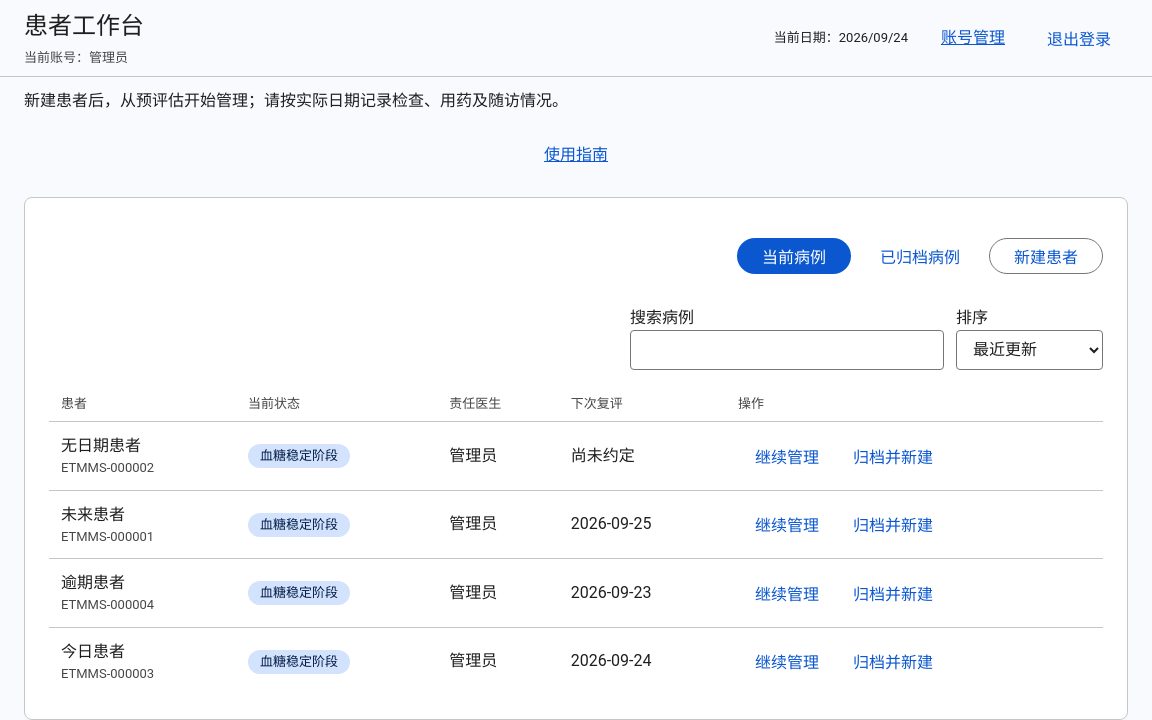
it: PatientListPage 当前环节 › 支持模拟病例搜索、复评日期排序和归档列表
expect the text "逾期患者" is shown: met, box [61,573,125,592]
Select "复评日期" in the dropdown labelled "排序" at (1030,350), box [956,330,1103,370]
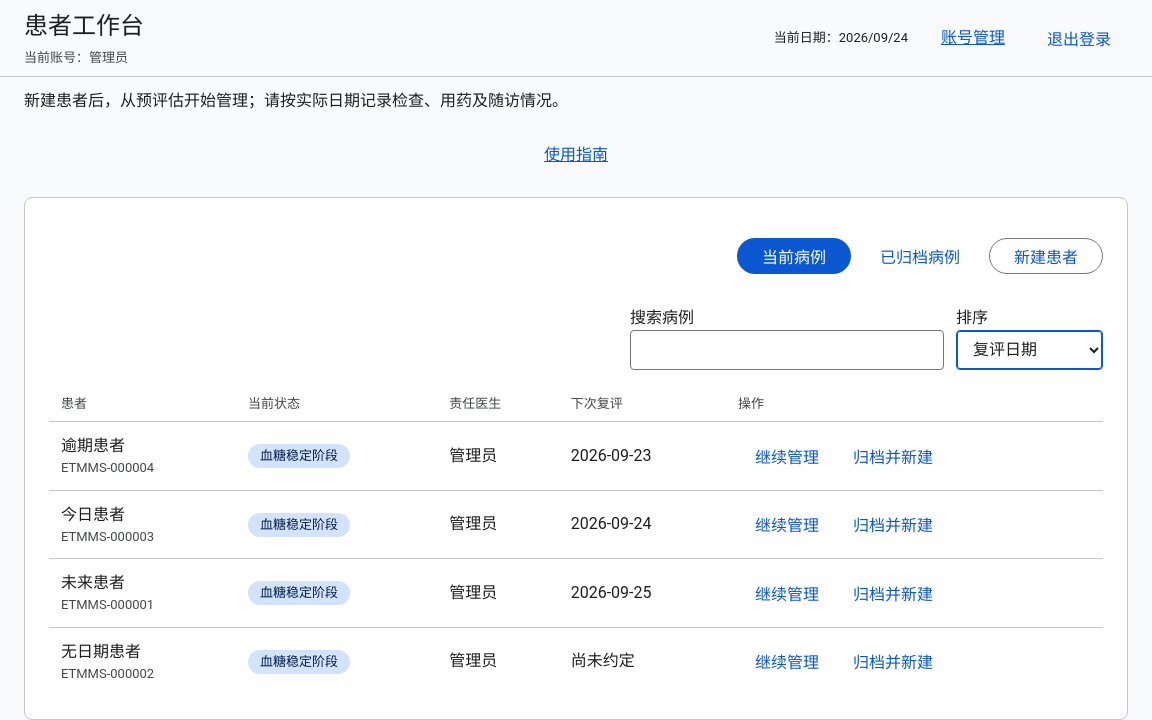
Type "ETMMS-000001" into the field labelled "搜索病例" at (787,350), box [630,330,944,370]
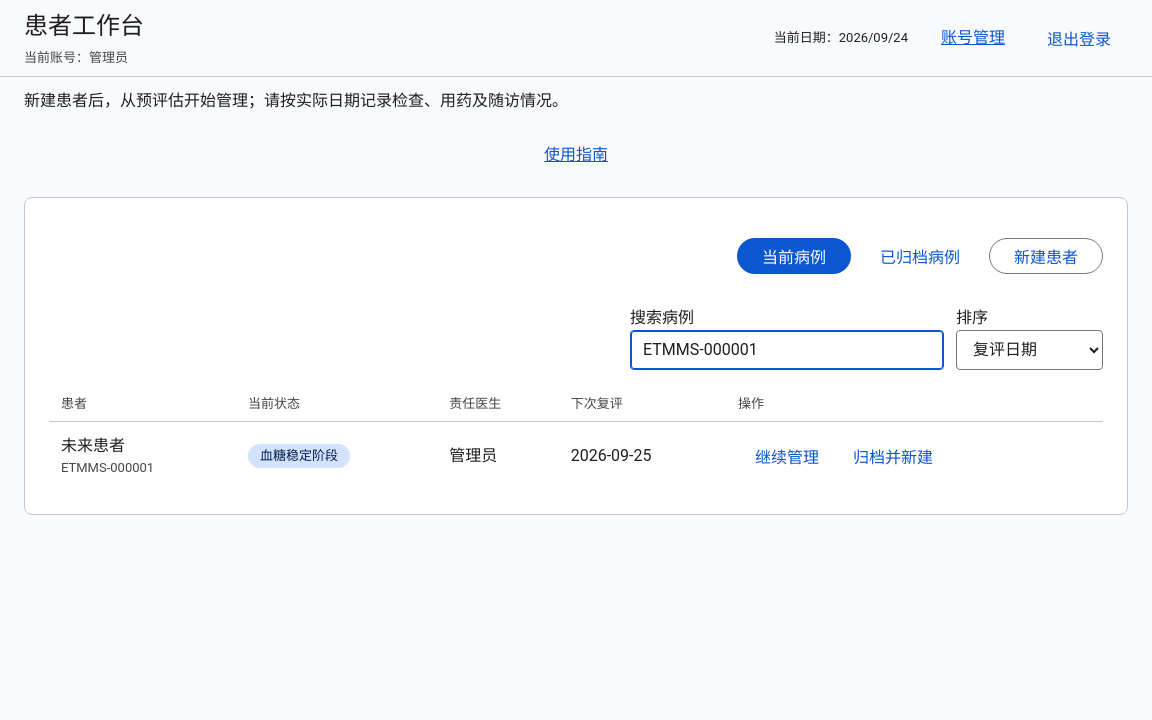
expect the number of rows is 2: met, box [49,386,1103,422]; [49,422,1103,490]
Click the button "已归档病例" at (920,256), box [863,238,977,274]
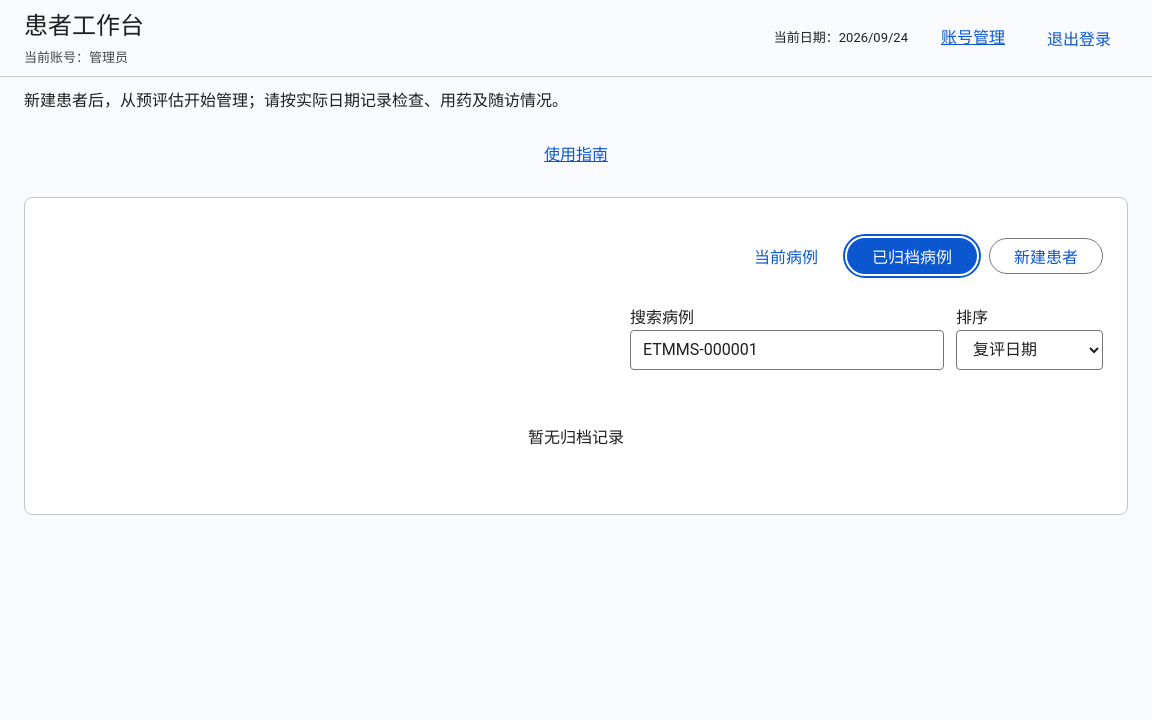
expect the text "暂无归档记录" is shown: met, box [528,426,624,450]
